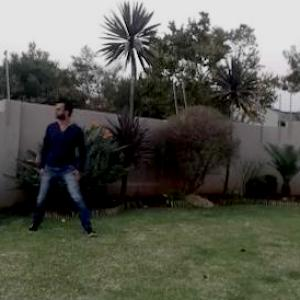follow: (39, 82, 84, 239)
